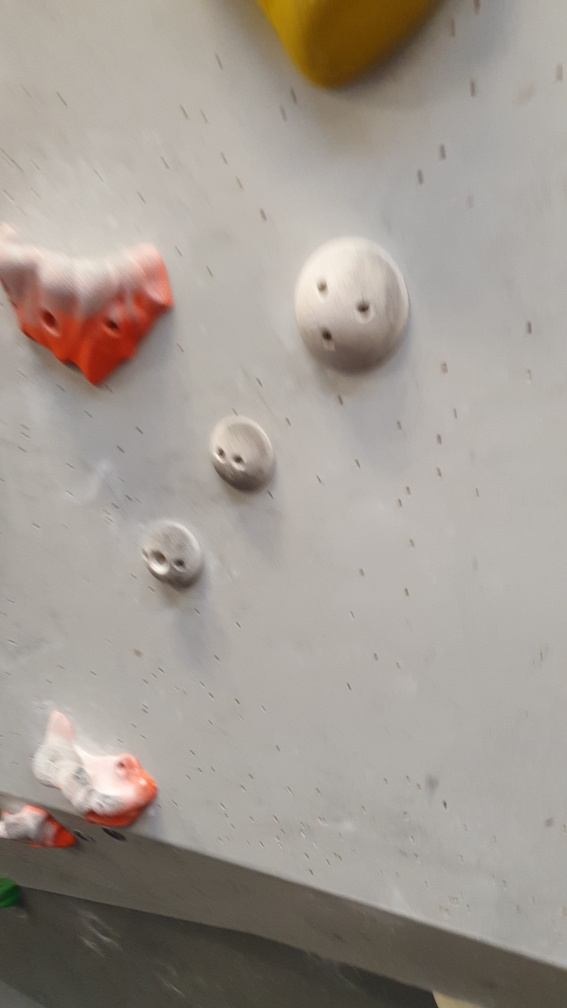Jug: (1, 217, 175, 388), (31, 711, 159, 830)
Sloper: (287, 237, 411, 379), (208, 417, 281, 495), (140, 518, 206, 591)
